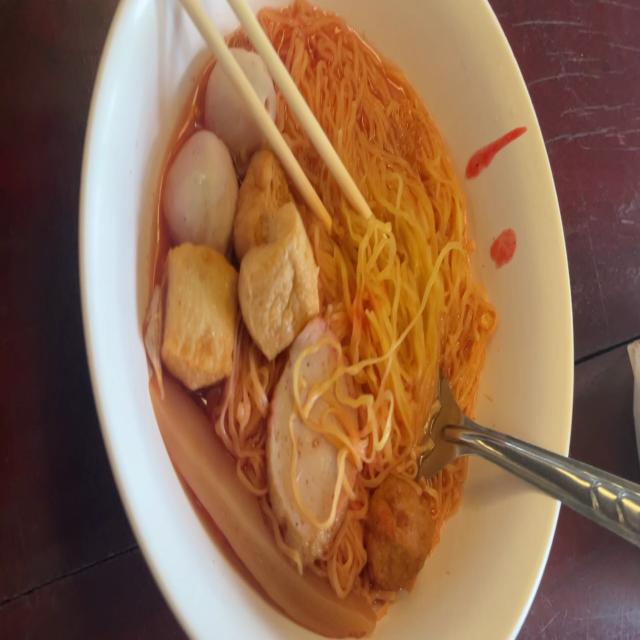crunchy_squid: (150, 362, 384, 639)
egg_noodles: (258, 0, 495, 542)
fish_ball: (162, 130, 238, 252), (203, 44, 277, 168)
fried_fish_balls: (270, 315, 366, 561)
fried_tofu: (239, 192, 329, 366), (230, 144, 293, 257)
noodle: (149, 6, 475, 631)
tofu: (160, 242, 242, 387)
